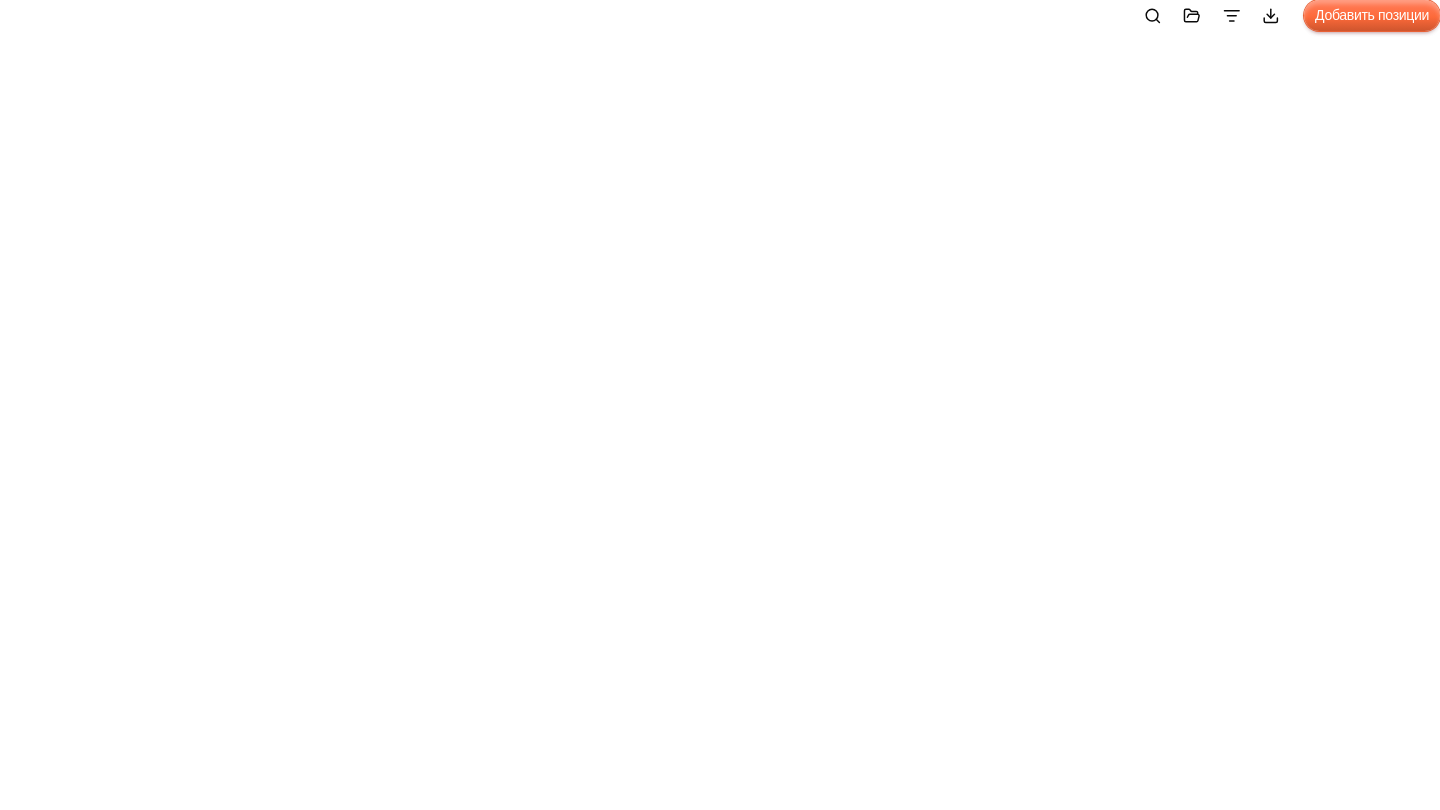
Test: Toolbar › filter popover opens on button click
Click the button named "Фильтры". click: (1232, 15)
box: [1216,0,1247,31]
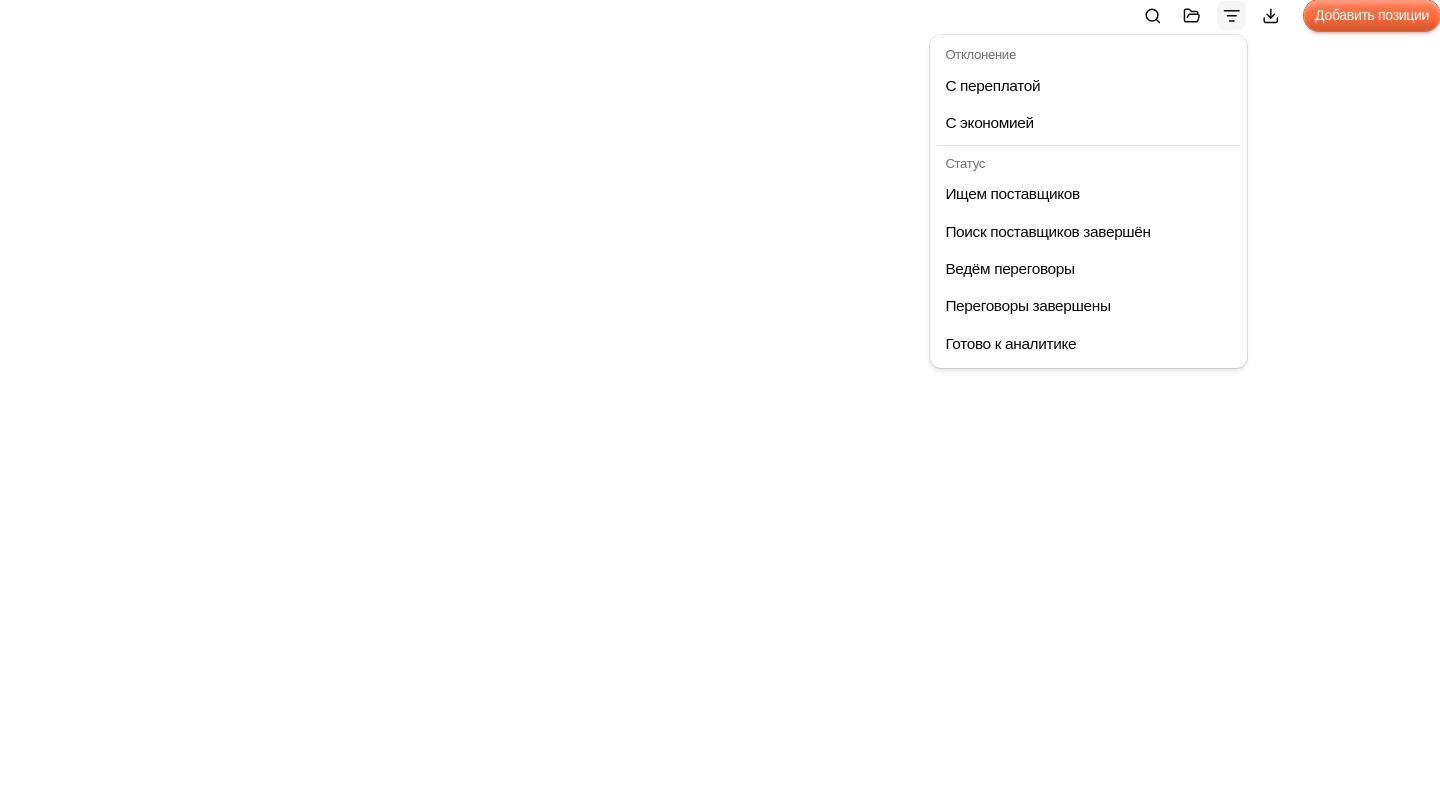
Expected: the button "С переплатой" is shown, [937,68,1240,103]
Expected: the button "С экономией" is shown, [937,105,1240,140]
Expected: the button "Ищем поставщиков" is shown, [937,177,1240,212]
